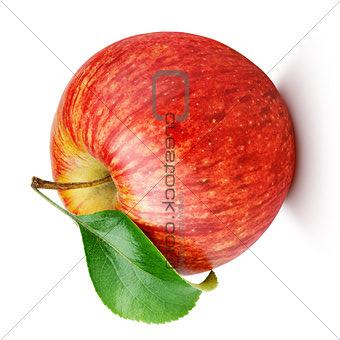apple: (0, 0, 340, 340)
